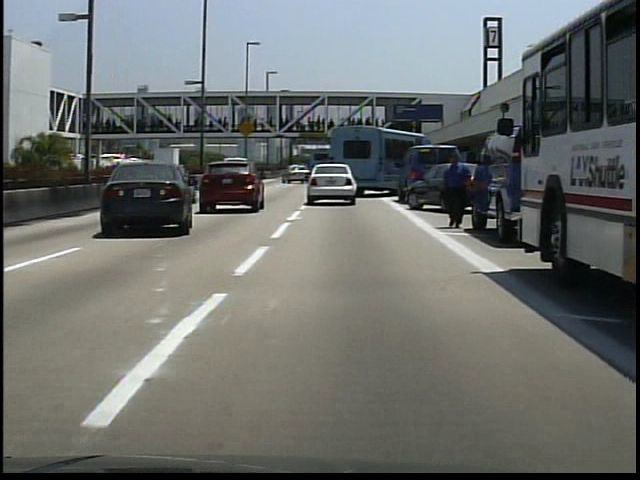person: (437, 155, 476, 235)
